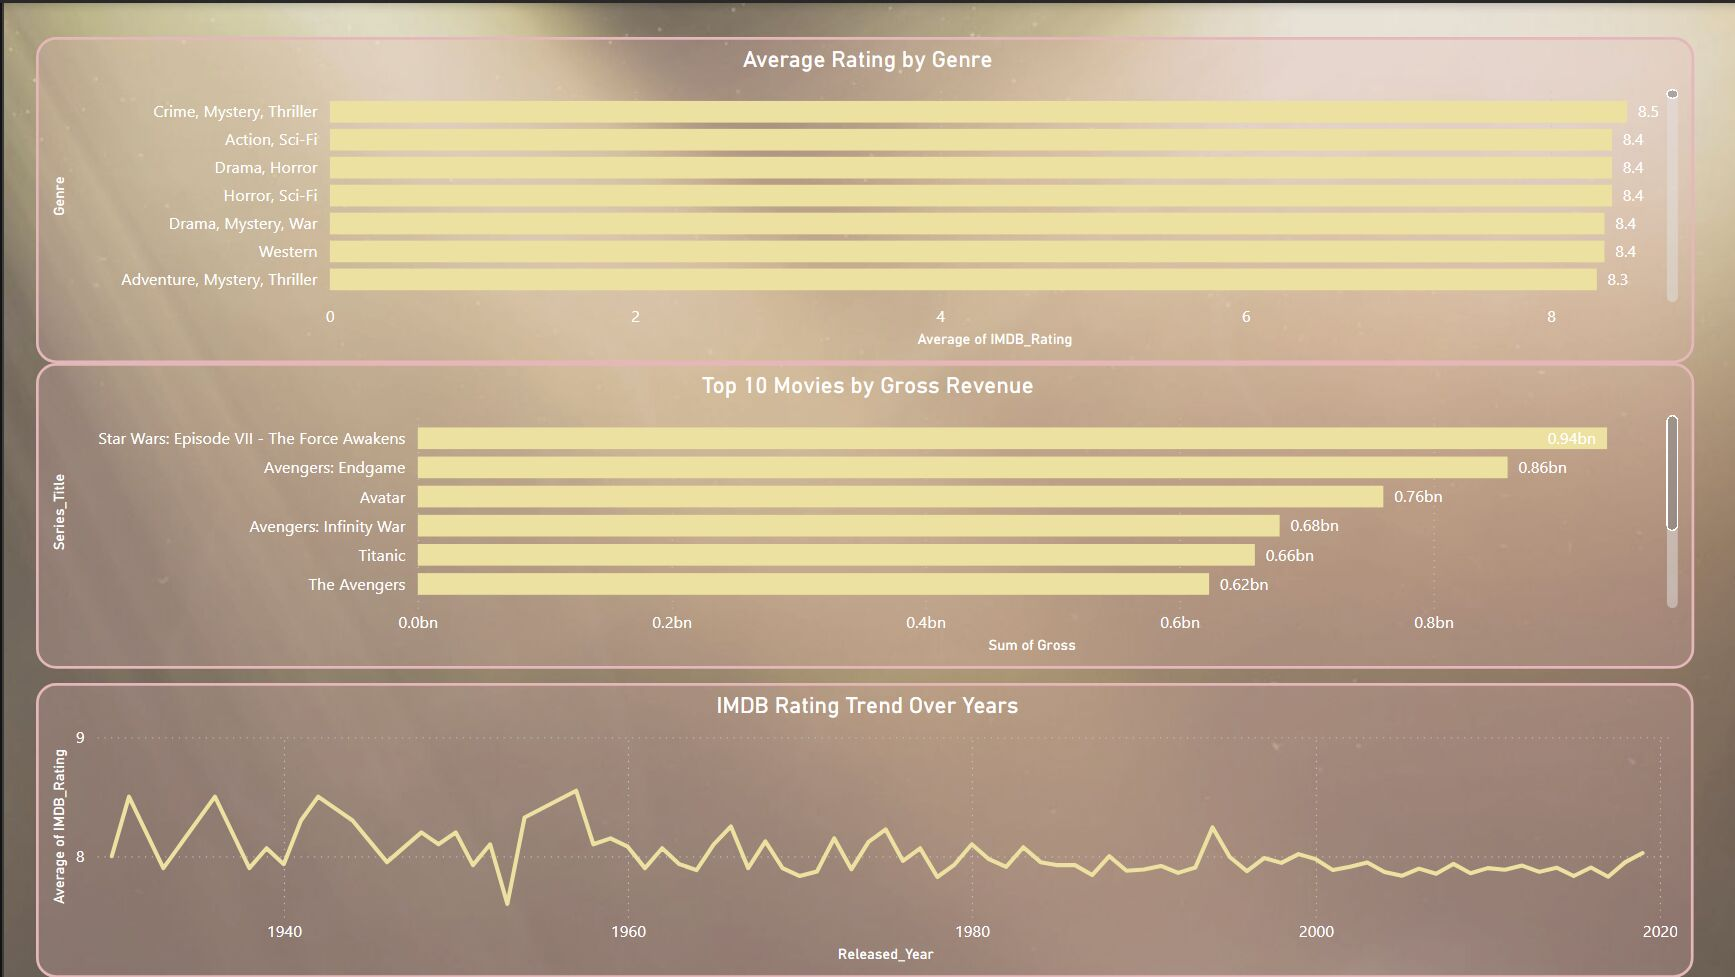

This screenshot's page, from the dashboard's own definition file:
{"tool":"powerbi","page":{"name":"ANALYSIS","canvas":[1280,720],"ordinal":1},"visuals":[{"type":"barChart","title":"Average Rating by Genre","fields":{"Category":["IMDB Top 1000.Genre"],"Y":["Avg(IMDB Top 1000.IMDB_Rating)"]},"box":[23.6,25.1,1225.3,240.9],"z":0},{"type":"barChart","title":"Top 10 Movies by Gross Revenue","fields":{"Category":["IMDB Top 1000.Series_Title"],"Y":["Sum(IMDB Top 1000.Gross)"]},"box":[23.6,266.1,1225.3,226.1],"z":1000},{"type":"lineChart","title":"IMDB Rating Trend Over Years","fields":{"Category":["IMDB Top 1000.Released_Year"],"Y":["Avg(IMDB Top 1000.IMDB_Rating)"]},"box":[24,502,1225,218],"z":2000}]}

Visuals, with their boxes in screenshot pixels (x1, y1, x2, y2), scaled from the page's 1280x720 canvas onto the 1735x977 screenshot:
"Average Rating by Genre" barChart: detection(32, 34, 1693, 361)
"Top 10 Movies by Gross Revenue" barChart: detection(32, 361, 1693, 668)
"IMDB Rating Trend Over Years" lineChart: detection(33, 681, 1693, 976)
